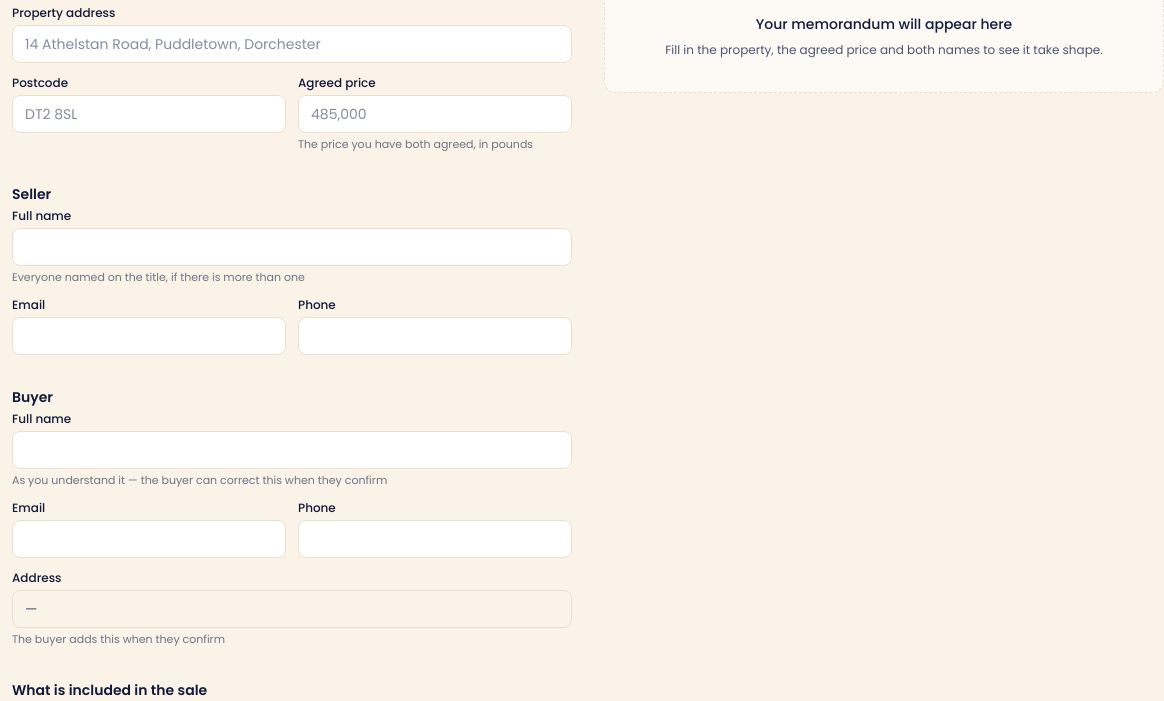
Test: MemorandumBuilder › names what is still missing rather than just refusing
Type "14 Athelstan Road" into the field labelled "Property address". click: (292, 44)
box: [12,25,572,63]
(page scrolled)
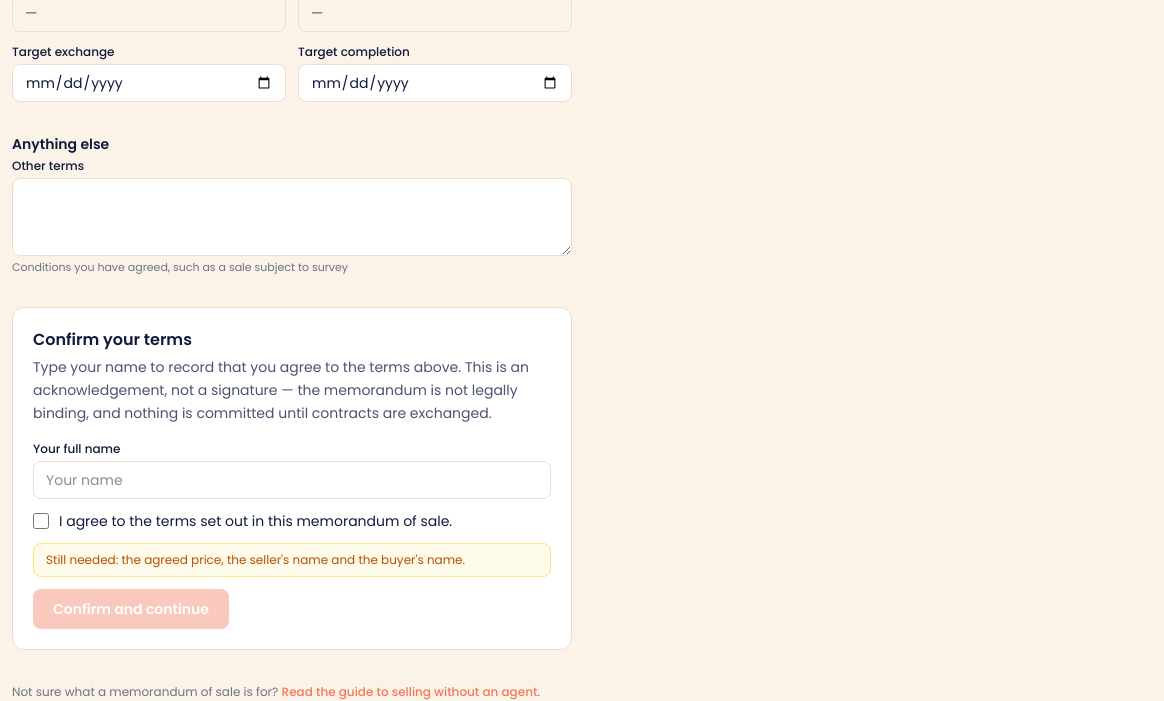
Now the text "Still needed: the agreed price, the seller's name and the buyer's name" is shown, box [46,550,465,568]
